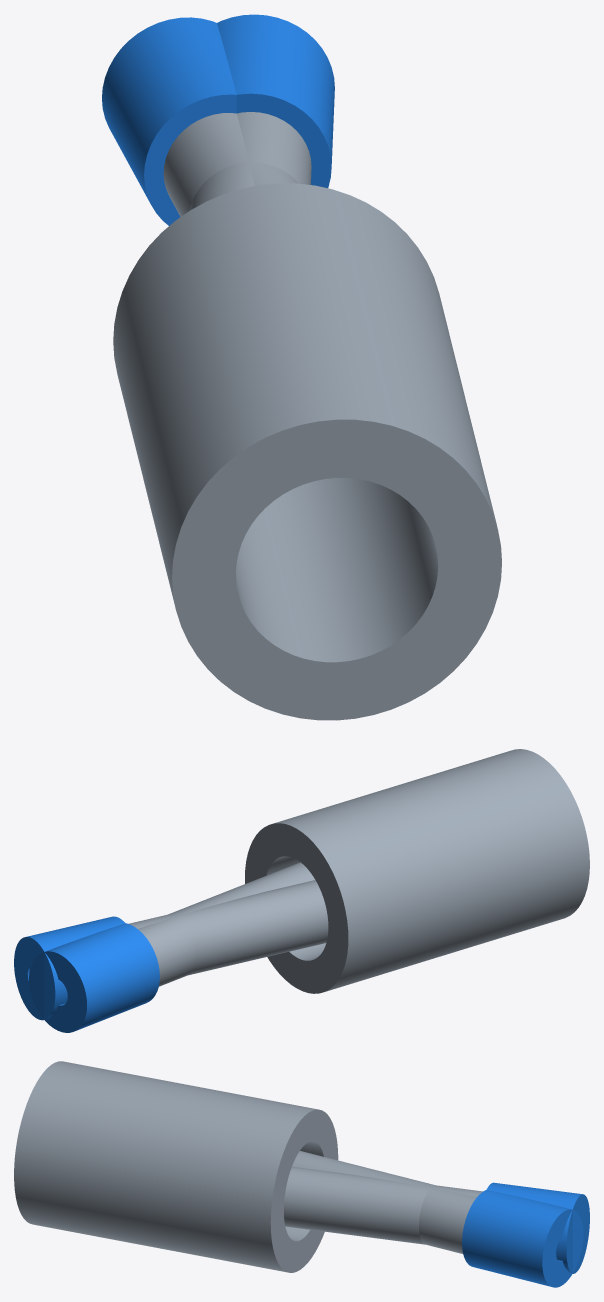
File: bb2402-3-lateral-obturator-double-gate-30a40be86f8a.glb
3 views of the same model, one above another, from view 1: azimuth 30°, elevation 25°; view 2: azimuth 150°, elevation 25°; view 3: azimuth 270°, elevation 25° (orthographic). The views are drawn at different scales.
Visible parts, largest first — view 1: BB2402_3_Main_Patent_Lumen, BB2402_3_Blue_Gate_Cap_2, BB2402_3_Blue_Gate_Cap_1, BB2402_3_Instrument_Gate_2, BB2402_3_Instrument_Gate_1; view 2: BB2402_3_Main_Patent_Lumen, BB2402_3_Blue_Gate_Cap_2, BB2402_3_Instrument_Gate_1, BB2402_3_Instrument_Gate_2, BB2402_3_Blue_Gate_Cap_1; view 3: BB2402_3_Main_Patent_Lumen, BB2402_3_Instrument_Gate_2, BB2402_3_Blue_Gate_Cap_1, BB2402_3_Instrument_Gate_1, BB2402_3_Blue_Gate_Cap_2.
Boxes of the visible parts, x1,y1,x2,y2 form: BB2402_3_Main_Patent_Lumen: (113, 183, 501, 720); BB2402_3_Blue_Gate_Cap_2: (102, 17, 236, 225); BB2402_3_Blue_Gate_Cap_1: (217, 14, 334, 188); BB2402_3_Instrument_Gate_2: (163, 113, 297, 216); BB2402_3_Instrument_Gate_1: (190, 112, 311, 210); BB2402_3_Main_Patent_Lumen: (245, 749, 589, 993); BB2402_3_Blue_Gate_Cap_2: (29, 923, 159, 1032); BB2402_3_Instrument_Gate_1: (128, 880, 328, 975); BB2402_3_Instrument_Gate_2: (138, 862, 314, 986); BB2402_3_Blue_Gate_Cap_1: (14, 916, 125, 1020); BB2402_3_Main_Patent_Lumen: (14, 1061, 338, 1272); BB2402_3_Instrument_Gate_2: (284, 1166, 482, 1244); BB2402_3_Blue_Gate_Cap_1: (462, 1190, 583, 1287); BB2402_3_Instrument_Gate_1: (292, 1151, 476, 1253); BB2402_3_Blue_Gate_Cap_2: (486, 1182, 589, 1273).
Size of the model in its own units: 0.0269 by 0.0124 by 0.043.
